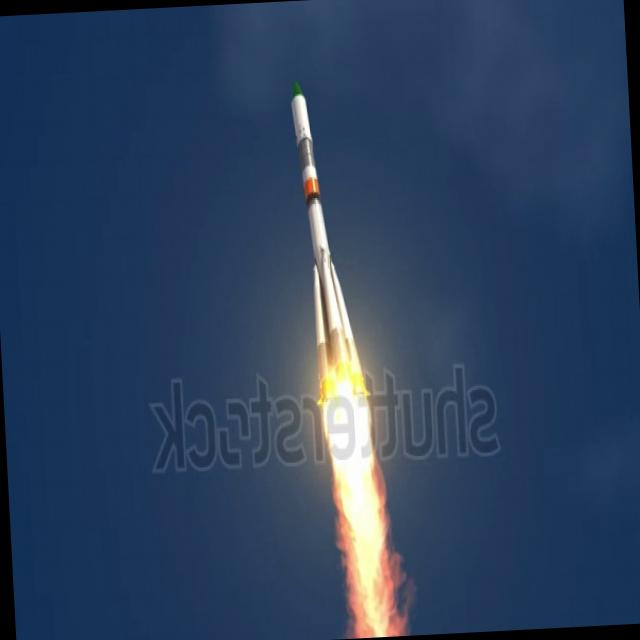rocket: (287, 76, 387, 555)
